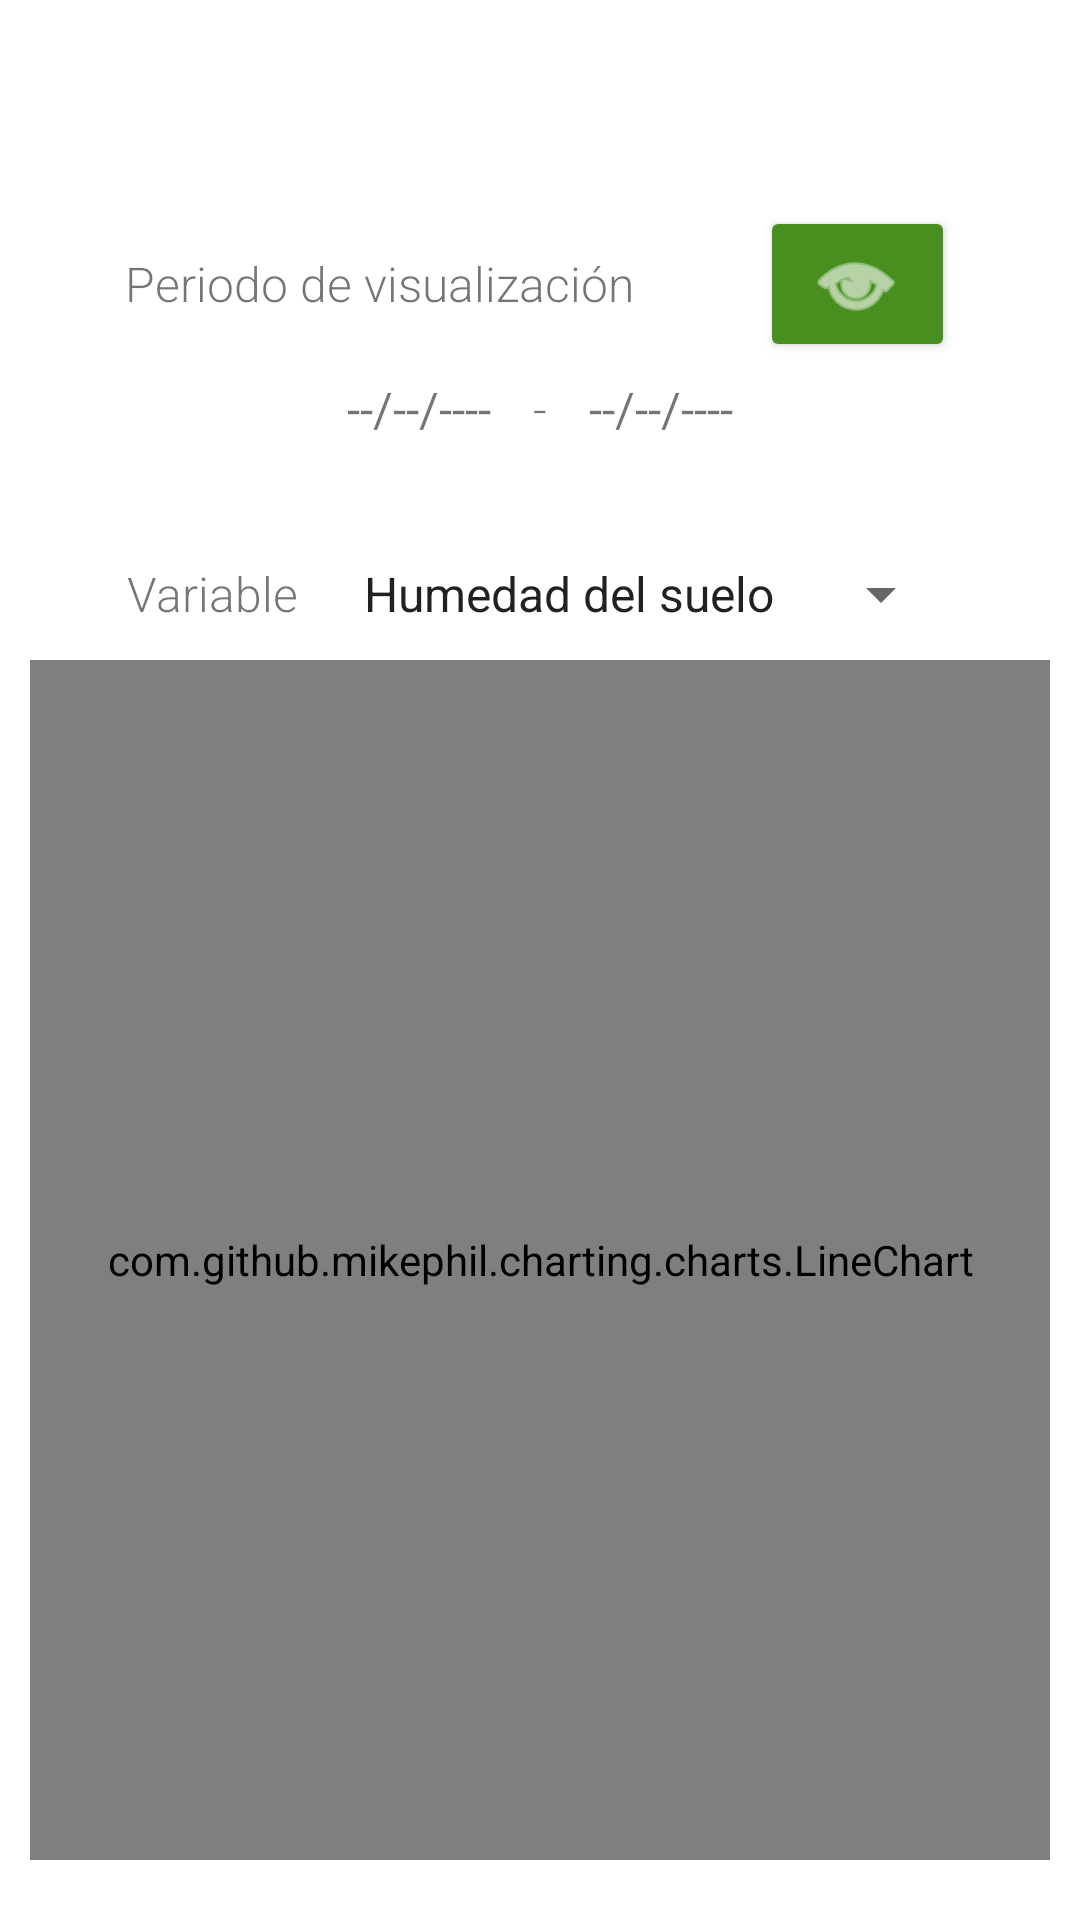

Locate icon controls on the screen. Image size 1080*1920, boxes as [x1=x1, y1=y1, x2=x2, y2=y2].
view: [x1=772, y1=224, x2=944, y2=345]
